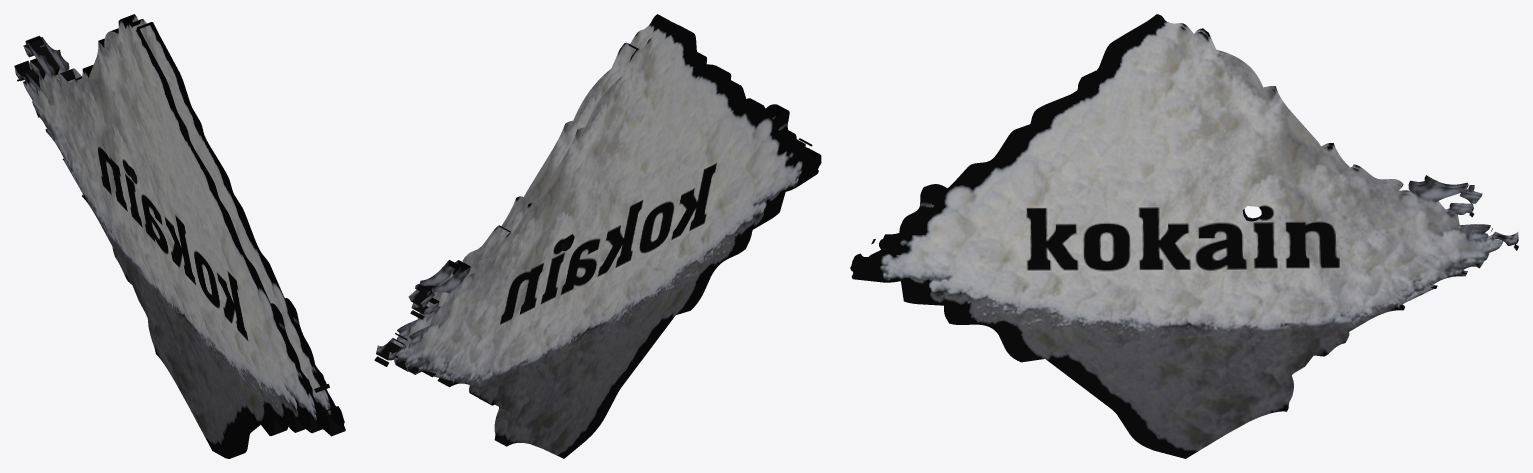
The model's file is kokain.gltf.
3 views of the same model, side by side, from view 1: azimuth 30°, elevation 25°; view 2: azimuth 150°, elevation 25°; view 3: azimuth 270°, elevation 25° (orthographic). The views are drawn at different scales.
Visible parts, largest first — view 1: Layer_0; view 2: Layer_0; view 3: Layer_0.
Part boxes in pixels (x1=…): Layer_0: x1=14, y1=14, x2=345, y2=458; Layer_0: x1=374, y1=14, x2=821, y2=458; Layer_0: x1=850, y1=14, x2=1518, y2=458.
Size of the model in its own units: 1.24 by 5.19 by 7.76.
Materials: 3 (3 with a texture image).
